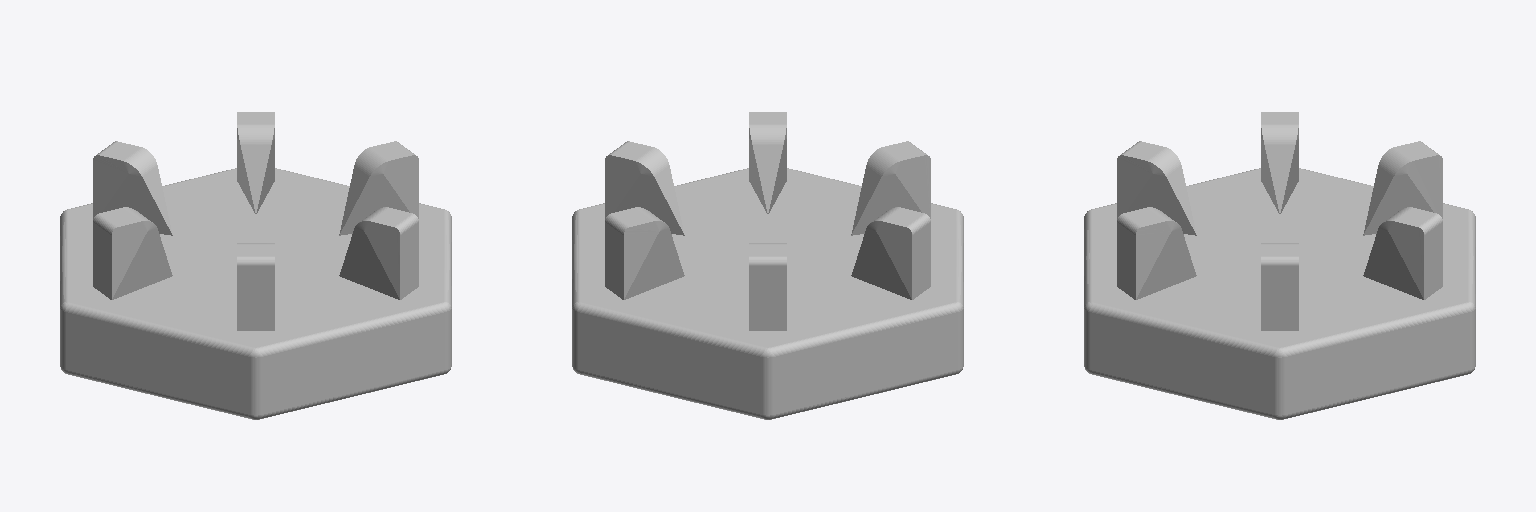
Rendered from HoneyCombPiece_Lid_4.obj.
3 views of the same model, side by side, from view 1: azimuth 30°, elevation 25°; view 2: azimuth 150°, elevation 25°; view 3: azimuth 270°, elevation 25° (orthographic).
Parts seen in each view (by area): view 1: lid.005_Curve.046; view 2: lid.005_Curve.046; view 3: lid.005_Curve.046.
Part boxes in pixels (bbox=[...]): lid.005_Curve.046: bbox=[60, 112, 451, 419]; lid.005_Curve.046: bbox=[572, 112, 963, 419]; lid.005_Curve.046: bbox=[1084, 112, 1475, 419].
Size of the model in its own units: 0.0297 by 0.0105 by 0.026.